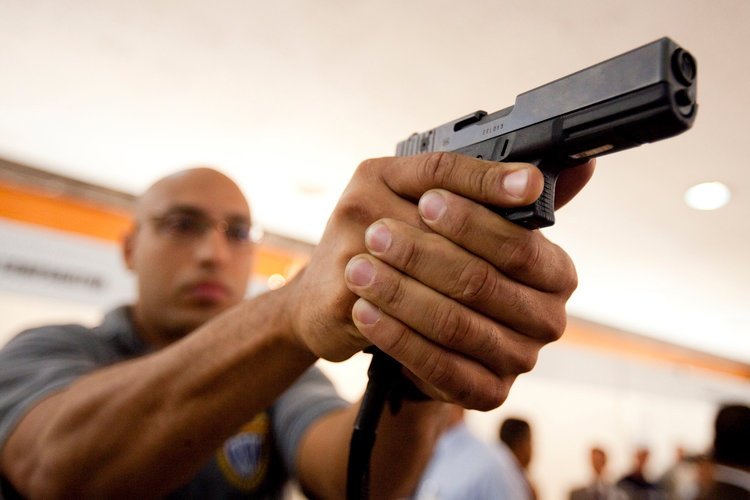pistol: (378, 36, 705, 191)
